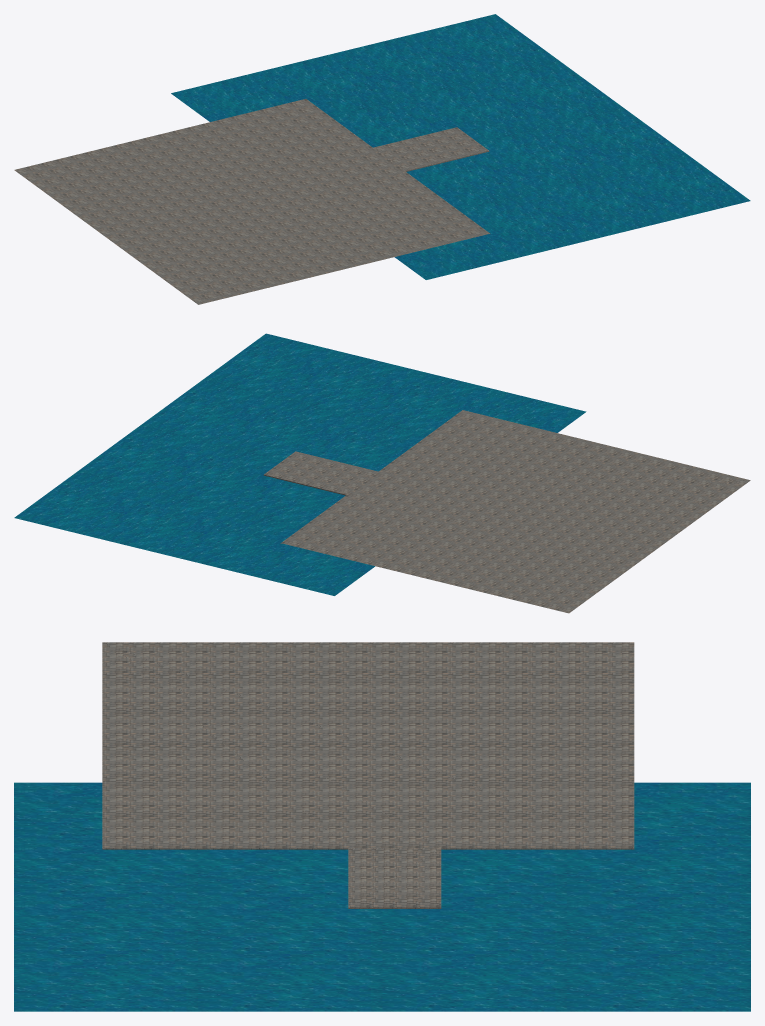
The model's file is seaport.FBX.
The picture shows the model from 3 angles, top to bottom: view 1: azimuth 30°, elevation 25°; view 2: azimuth 150°, elevation 25°; view 3: azimuth 270°, elevation 25°; orthographic projection. The views are drawn at different scales.
Parts seen in each view (by area): view 1: water_seaport, terrain_seaport; view 2: water_seaport, terrain_seaport; view 3: water_seaport, terrain_seaport.
Part boxes in pixels (left/top/right/bottom): water_seaport: left=171, top=14, right=750, bottom=279; terrain_seaport: left=14, top=99, right=490, bottom=304; water_seaport: left=14, top=333, right=586, bottom=595; terrain_seaport: left=263, top=410, right=750, bottom=613; water_seaport: left=14, top=782, right=750, bottom=1011; terrain_seaport: left=102, top=642, right=634, bottom=908.
Bounding box in the file's own units: 37981 × 32181 × 2001.
2 materials, 2 textured.
